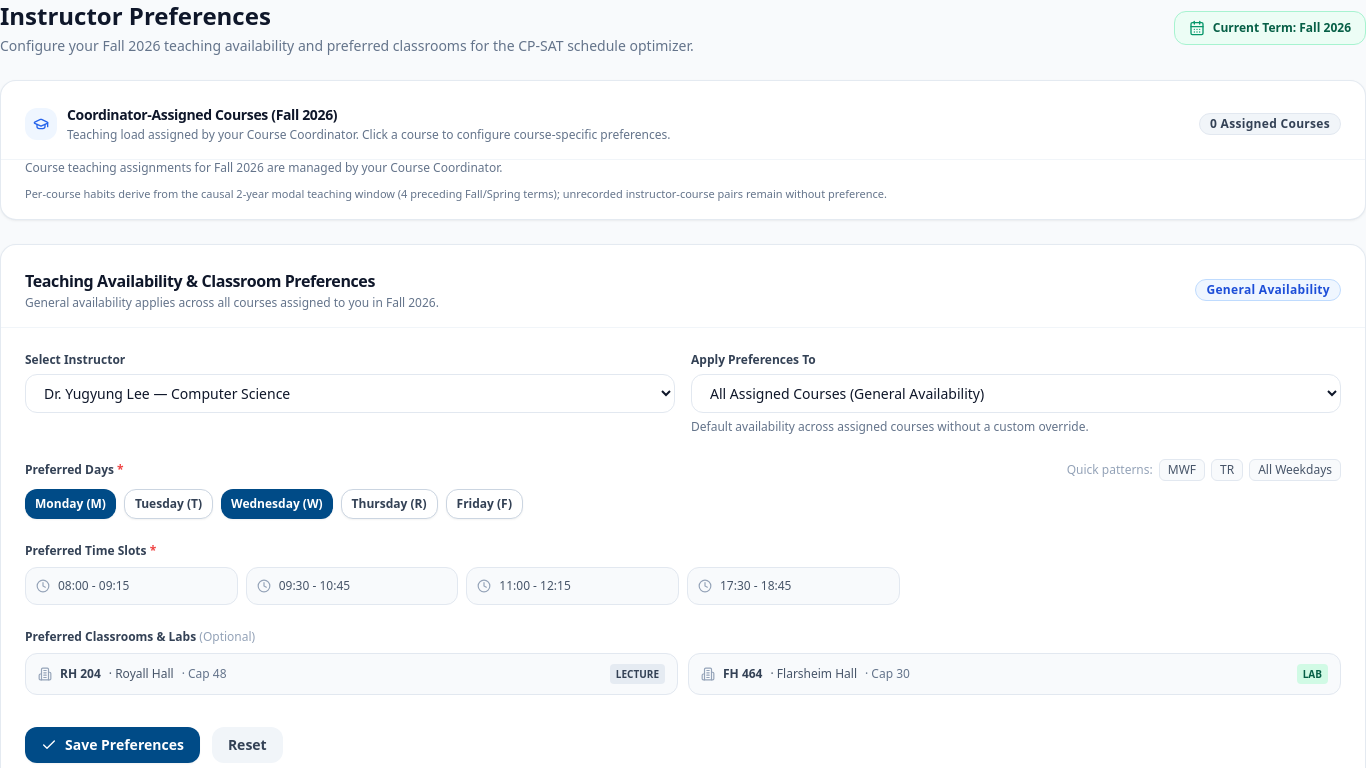
Test: PreferencesPage Component › resets selected days and slots on Reset button click
Click the button with test id "slot-08:00-09:15". click: (131,586)
box: [25,566,238,604]
(page scrolled)
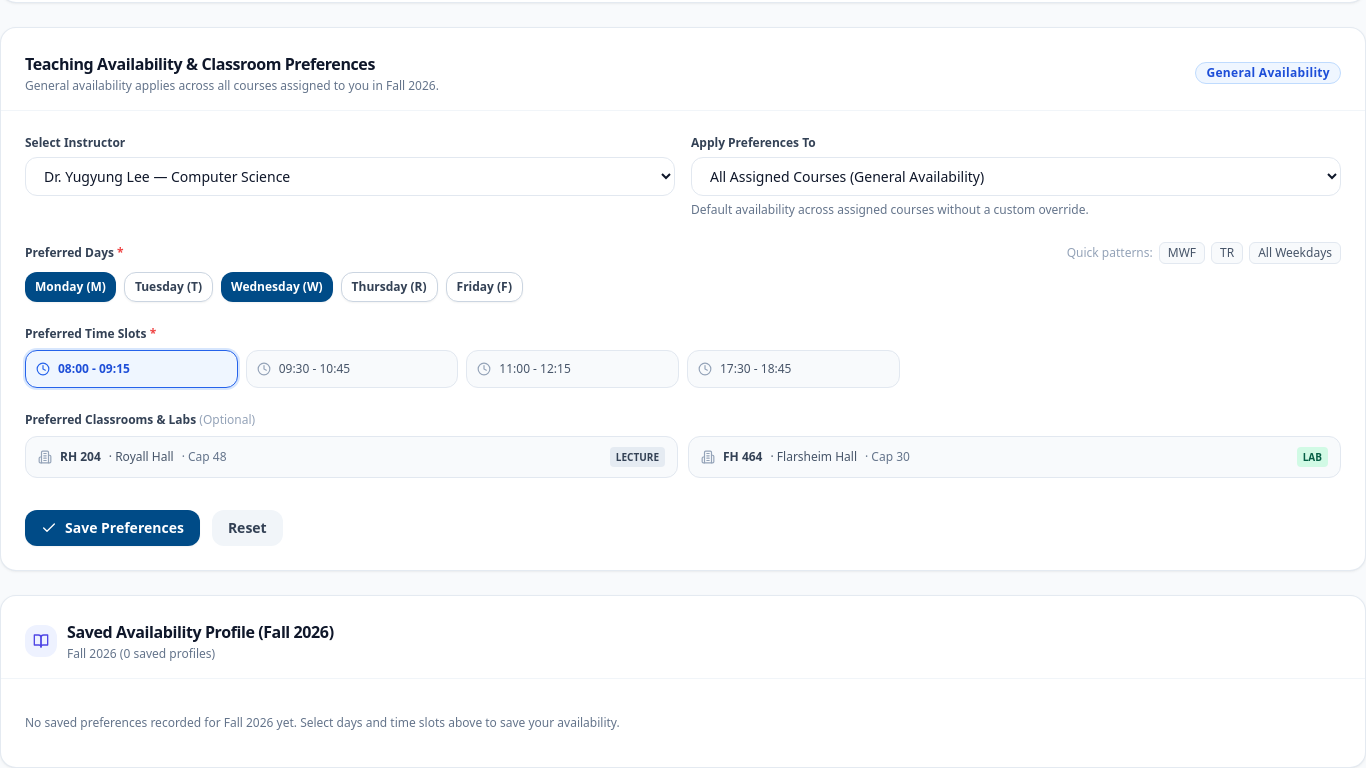
Now the button with test id "slot-08:00-09:15" has class "bg-blue-50", box [25,350,238,388]
Click the button "Reset". click: (247,528)
box: [212,510,283,546]
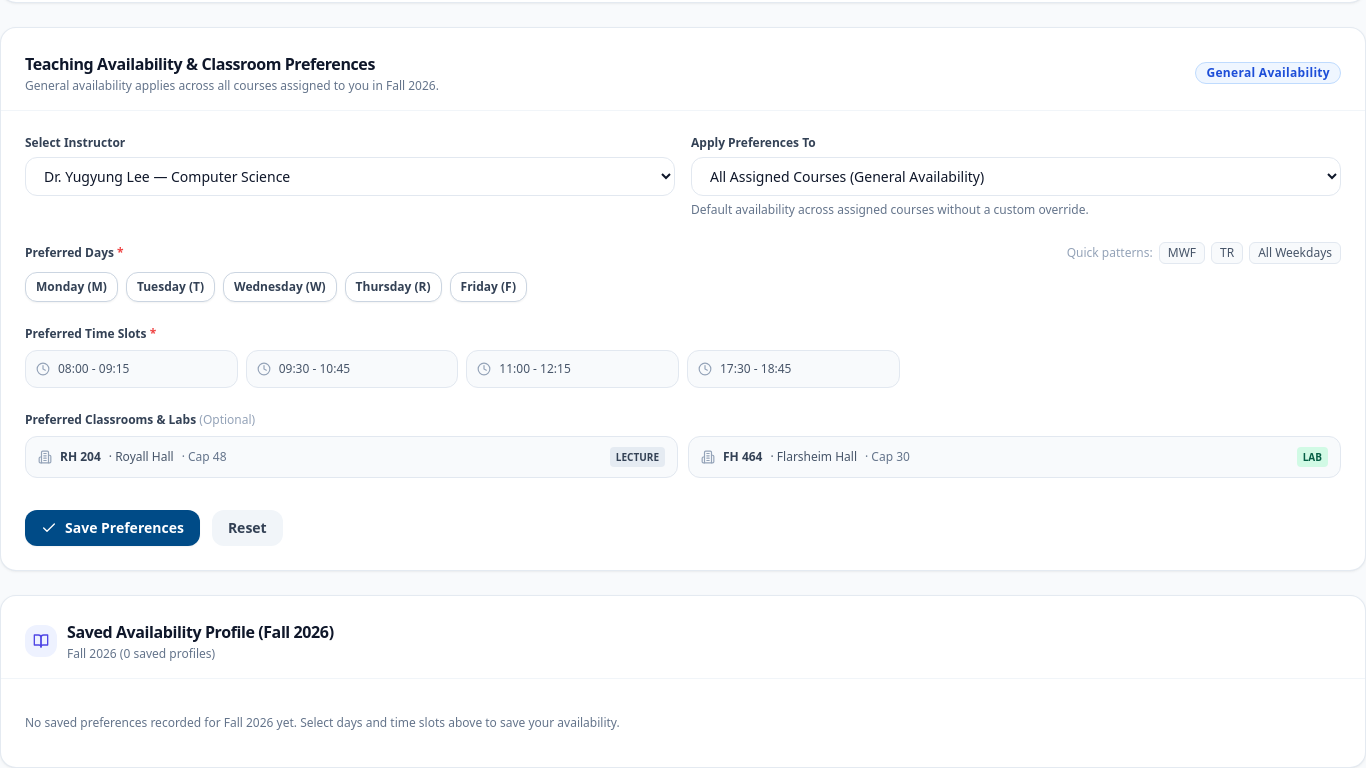
Now the button with test id "slot-08:00-09:15" has class "bg-slate-50", box [25,350,238,388]
